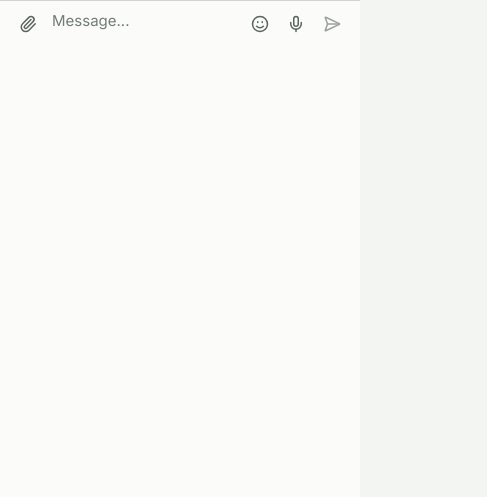
Scenario: MessageInput attachments › opens the fixed formatting menus from a selected right-click
Type "Open site" into the text box with test id "message-input-textarea" at (144,21), box [48,5,240,37]
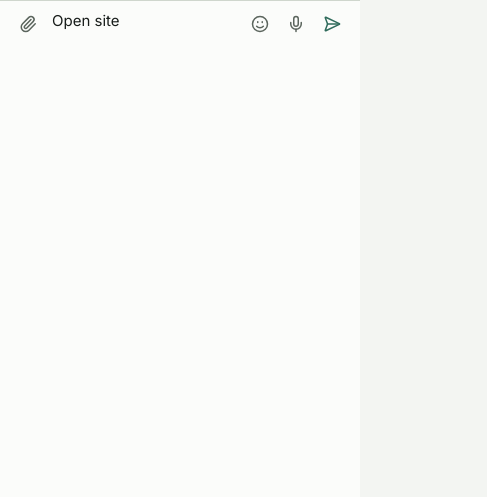
Right-click the text box with test id "message-input-textarea" at (144,21), box [48,5,240,37]
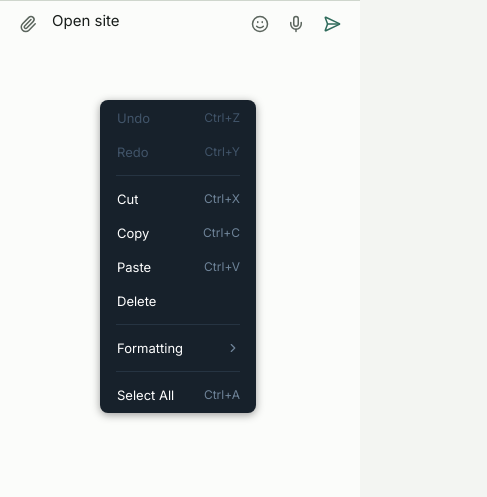
Click the menu item "Formatting" at (178,348), box [100,331,256,365]
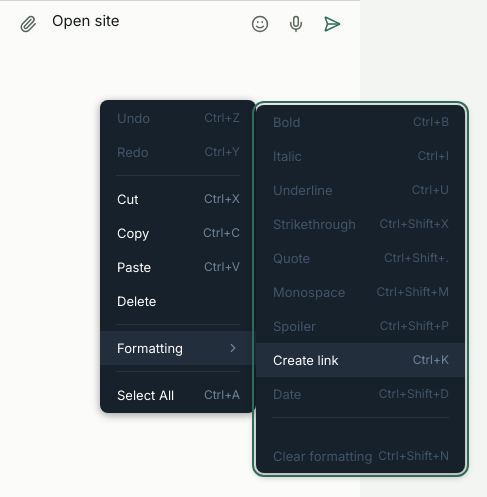
Result: the menu item "Create link Ctrl+K" is shown at [256,343,465,377]
